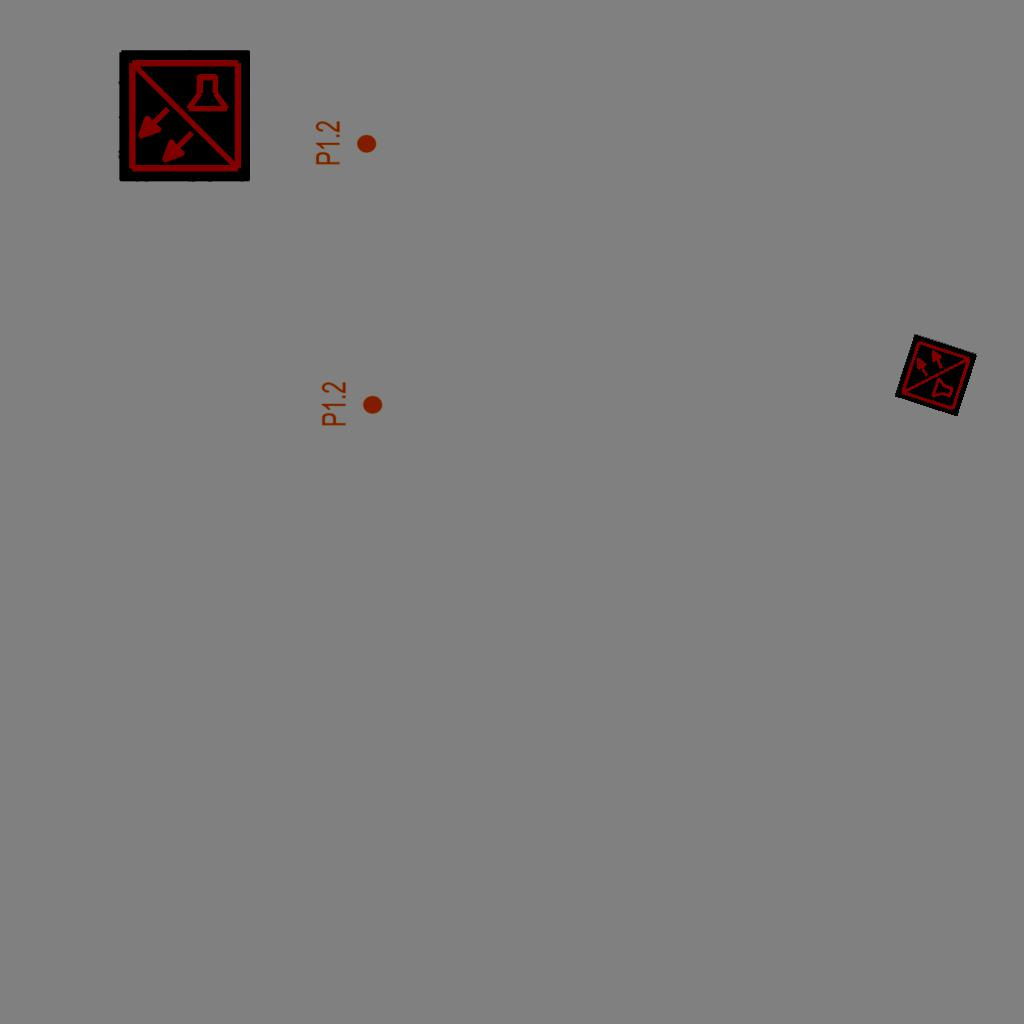Downlight_LED_Einbauleuchten_Flur: (314, 120, 378, 166), (320, 381, 384, 427)
OKW_Multisensormelder_(Kombination_optischer_Rauch-Kahlenmonoxid_Waerme-Melder): (118, 50, 250, 182), (894, 333, 978, 417)
